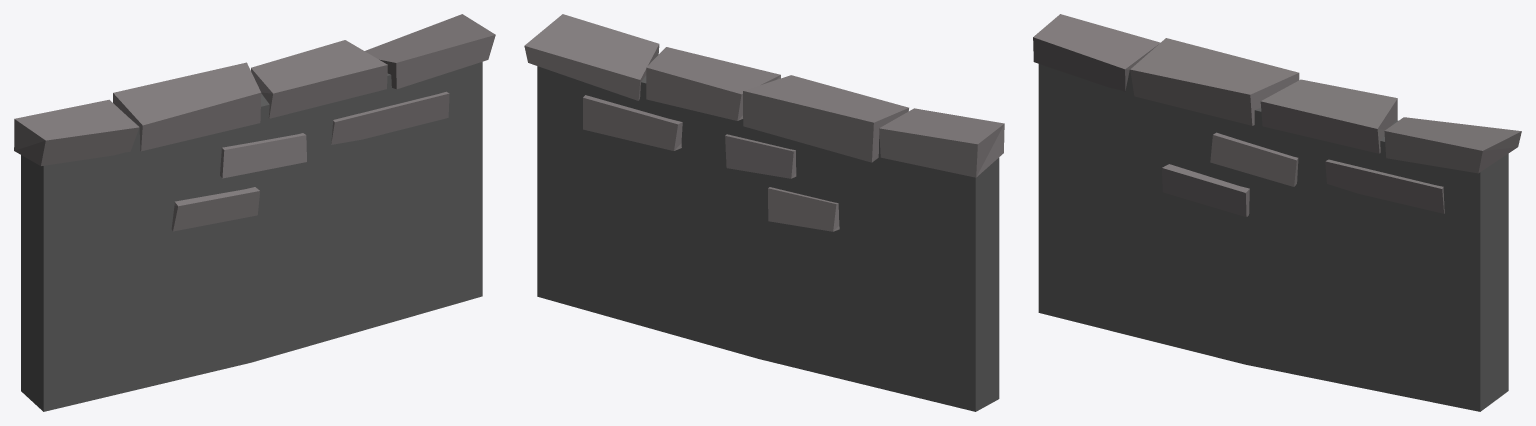
Rendered from vr_brick_wall_1.glb.
3 renders of one model, left to right at view 1: azimuth 30°, elevation 25°; view 2: azimuth 150°, elevation 25°; view 3: azimuth 330°, elevation 25°, orthographic.
Parts seen in each view (by area): view 1: gtmfc_brick_wall_1; view 2: gtmfc_brick_wall_1; view 3: gtmfc_brick_wall_1.
Boxes of the visible parts, left/top/right/bottom form: gtmfc_brick_wall_1: left=14, top=14, right=495, bottom=411; gtmfc_brick_wall_1: left=524, top=14, right=1004, bottom=411; gtmfc_brick_wall_1: left=1033, top=14, right=1521, bottom=411.
Size of the model in its own units: 1.65 by 0.9583 by 0.2277.
1 material, 1 textured.
